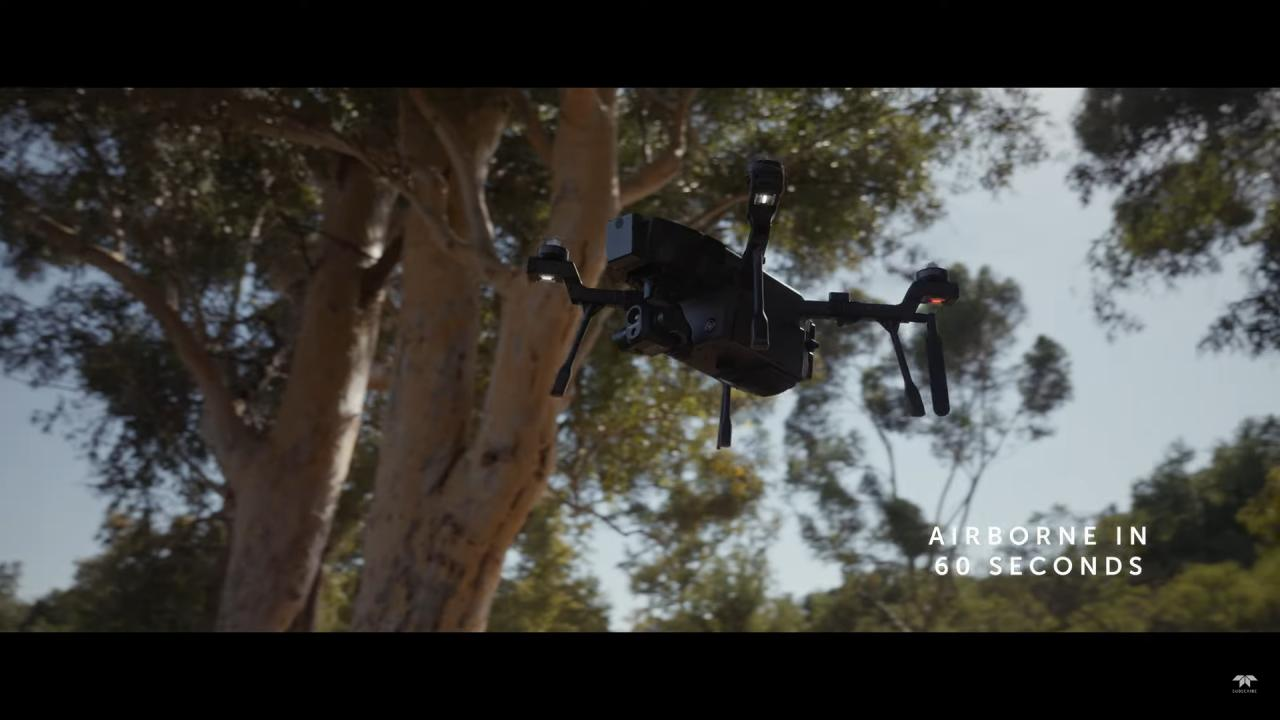Drone: (502, 143, 994, 473)
